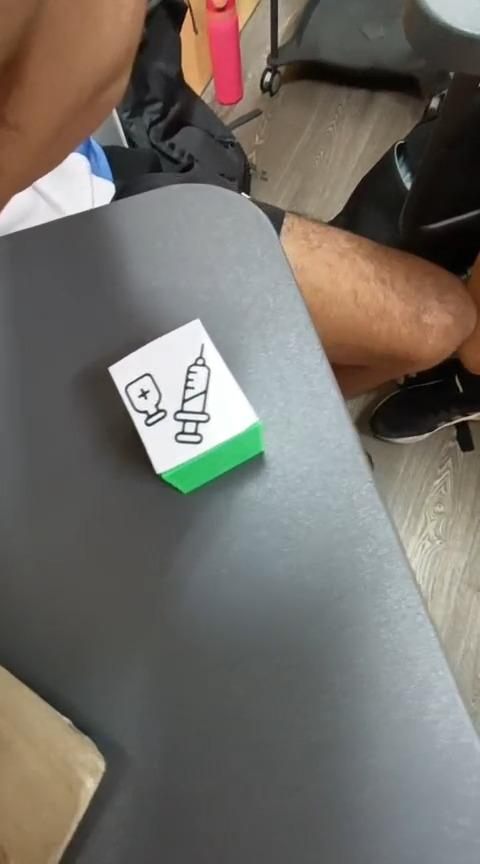antiseptic cream: (106, 316, 265, 495)
